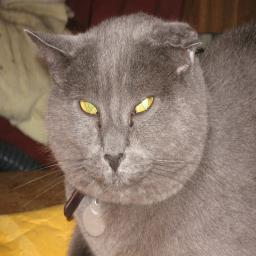catnose: (100, 152, 129, 174)
